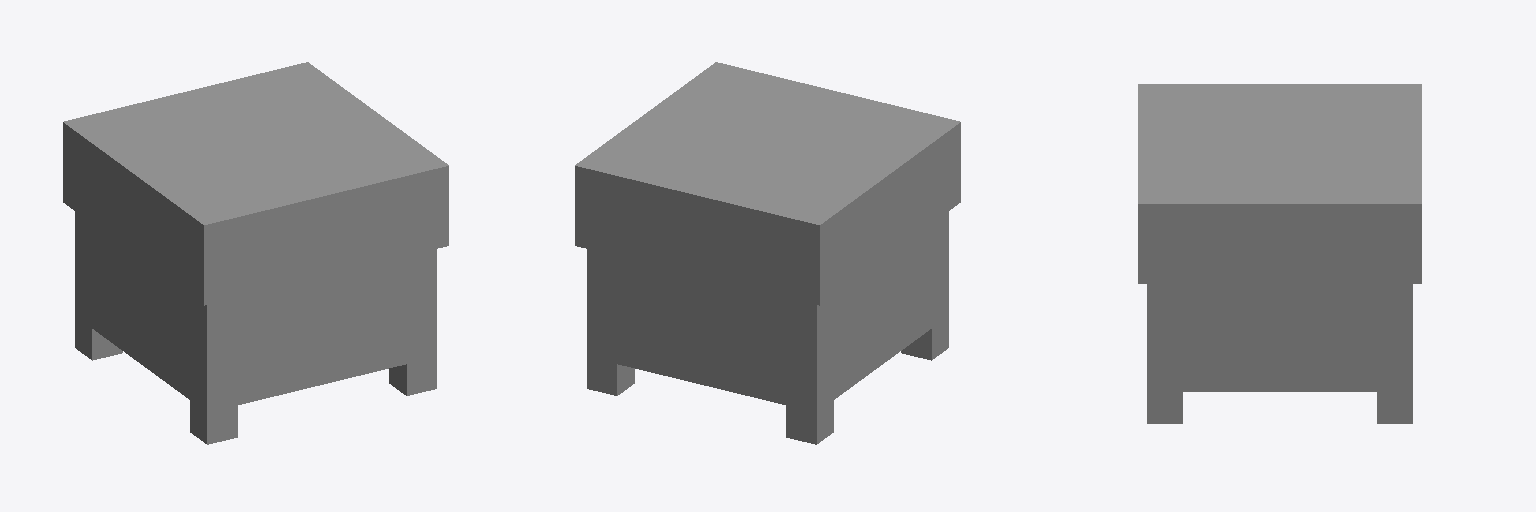
The model's file is table_smashing_cobble.obj.
3 views of the same model, side by side, from view 1: azimuth 30°, elevation 25°; view 2: azimuth 150°, elevation 25°; view 3: azimuth 270°, elevation 25° (orthographic).
Parts seen in each view (by area): view 1: SmashingTable; view 2: SmashingTable; view 3: SmashingTable.
Boxes of the visible parts, x1=… form: SmashingTable: x1=63, y1=62, x2=448, y2=444; SmashingTable: x1=575, y1=62, x2=960, y2=444; SmashingTable: x1=1138, y1=84, x2=1421, y2=423.
Size of the model in its own units: 1 by 0.875 by 1.